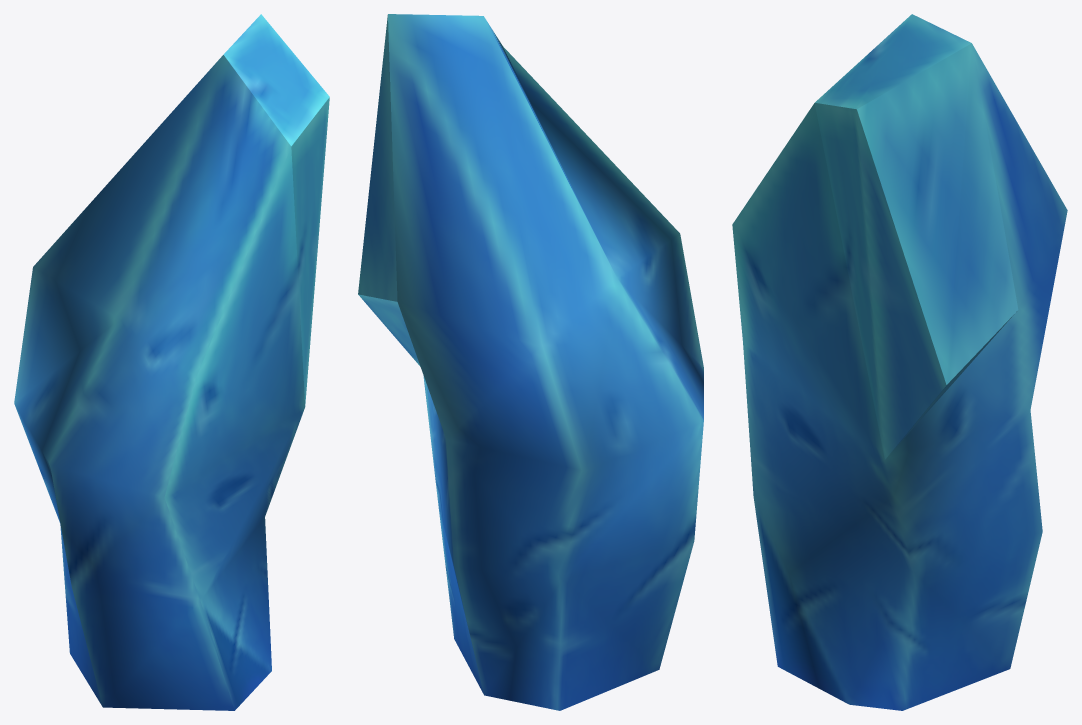
The model's file is crystal_5.fbx.
3 views of the same model, side by side, from view 1: azimuth 30°, elevation 25°; view 2: azimuth 150°, elevation 25°; view 3: azimuth 270°, elevation 25° (orthographic). The views are drawn at different scales.
Parts seen in each view (by area): view 1: crystal_5; view 2: crystal_5; view 3: crystal_5.
Boxes of the visible parts, x1,y1,x2,y2 form: crystal_5: (14, 14, 329, 710); crystal_5: (358, 14, 703, 710); crystal_5: (732, 14, 1067, 710).
Size of the model in its own units: 0.4077 by 0.8018 by 0.3555.
